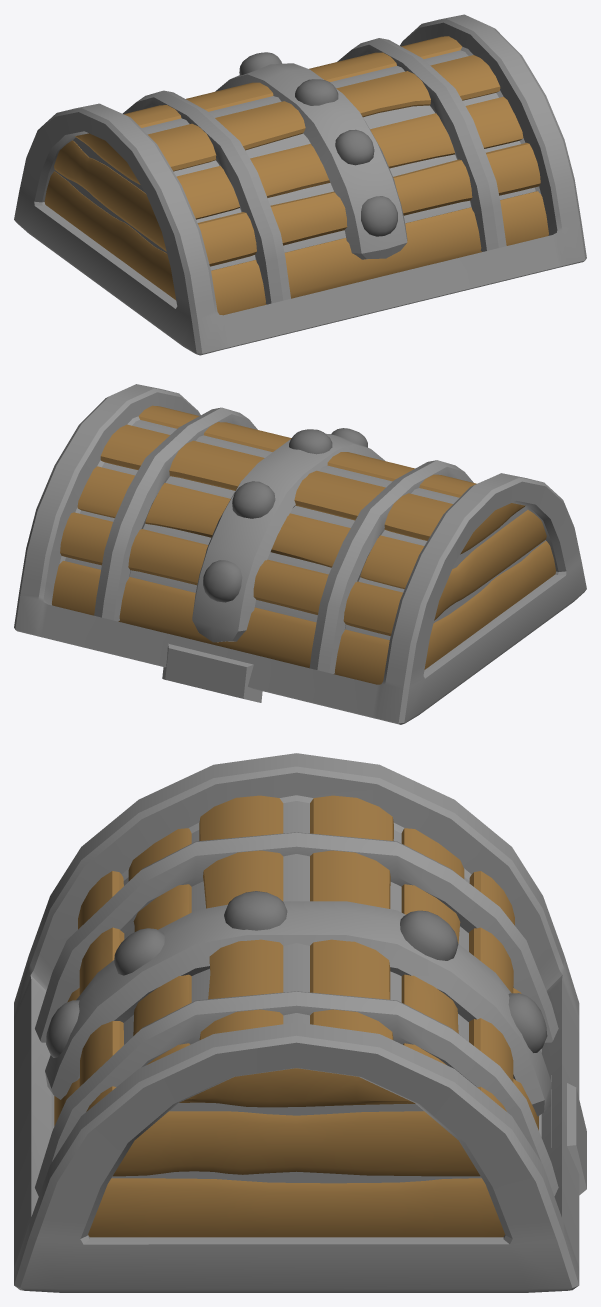
The model's file is Chest_Top.fbx.
3 views of the same model, one above another, from view 1: azimuth 30°, elevation 25°; view 2: azimuth 150°, elevation 25°; view 3: azimuth 270°, elevation 25° (orthographic). The views are drawn at different scales.
Parts seen in each view (by area): view 1: Chest_Top; view 2: Chest_Top; view 3: Chest_Top.
Part boxes in pixels (bbox=[...]): Chest_Top: bbox=[14, 14, 586, 355]; Chest_Top: bbox=[14, 384, 586, 724]; Chest_Top: bbox=[14, 753, 586, 1292].
Bounding box in the file's own units: 214 × 95.44 × 179.
